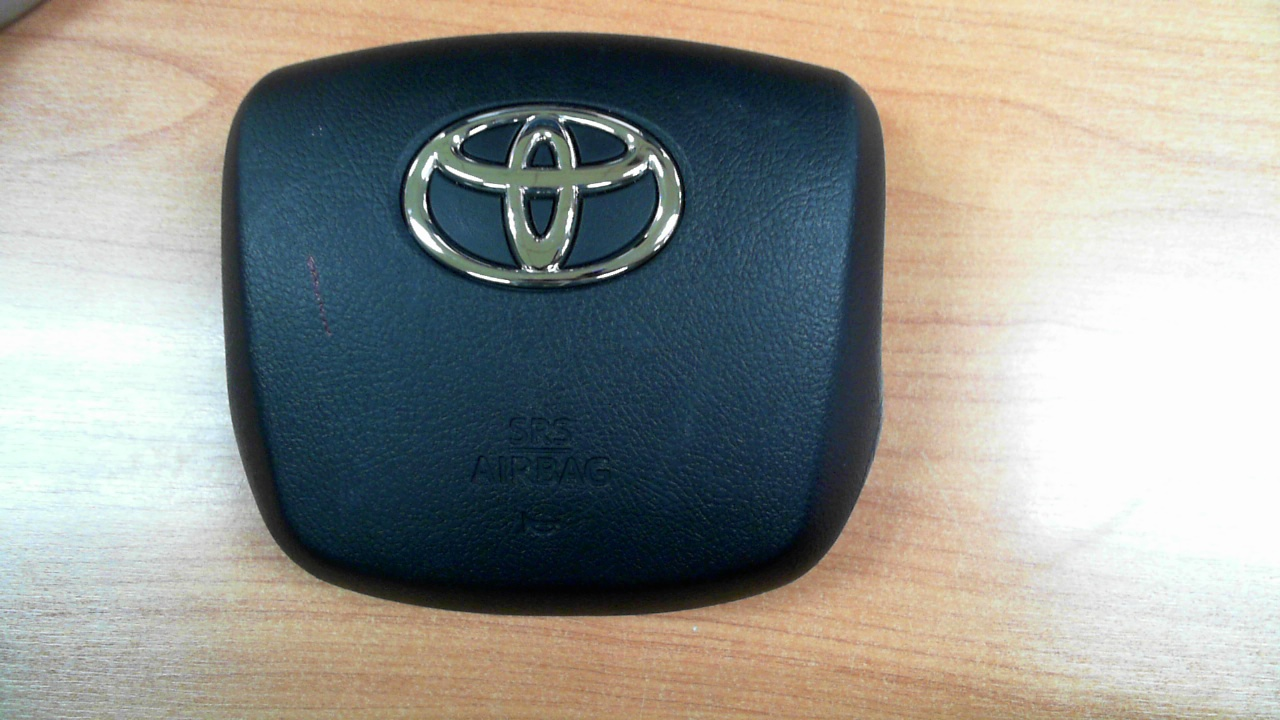Airbag: (218, 30, 887, 618)
Toyota: (403, 104, 683, 288)
